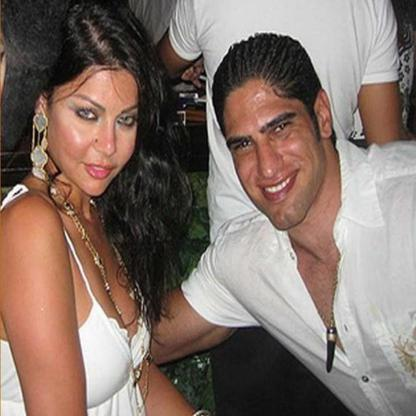face: (223, 86, 327, 231), (50, 65, 139, 197)
